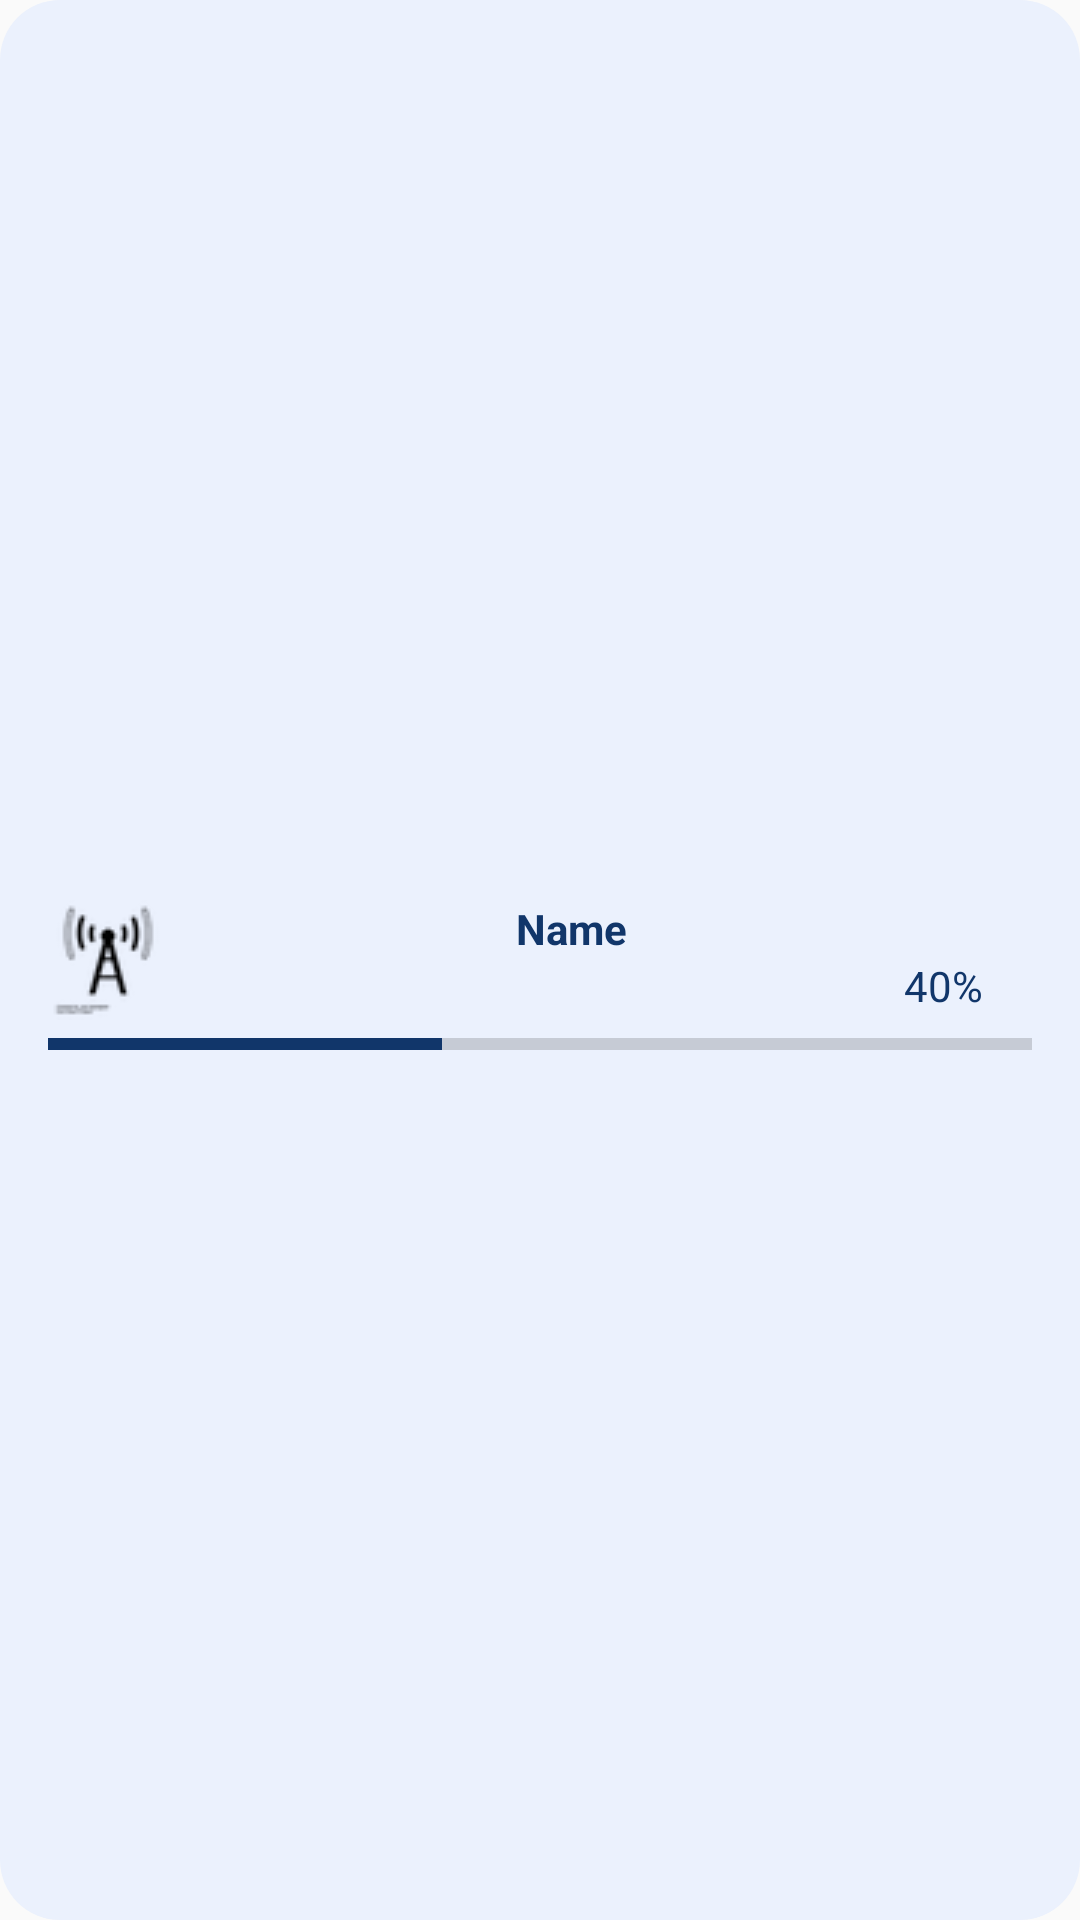

Locate icon controls on the screen. Image size 1080 x 1920, boxes as {"left": x1, "top": y1, "right": x2, "bottom": y2}.
network: {"left": 56, "top": 906, "right": 153, "bottom": 1015}
